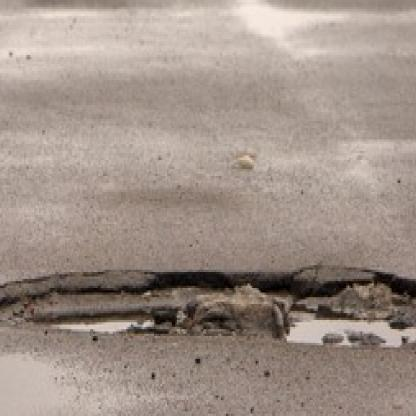pothole: (0, 263, 416, 345)
